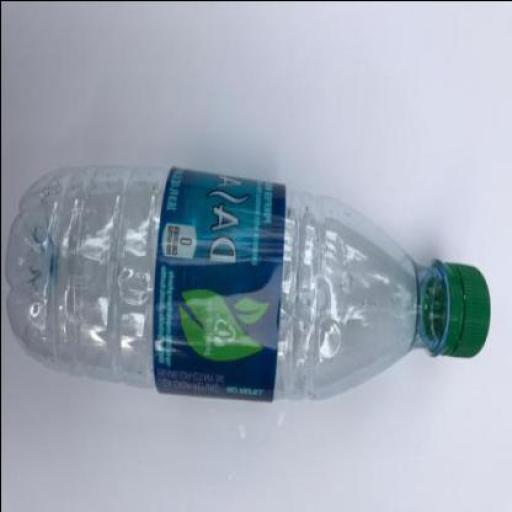plastic: (6, 161, 490, 400), (153, 164, 286, 398), (423, 259, 490, 359)
